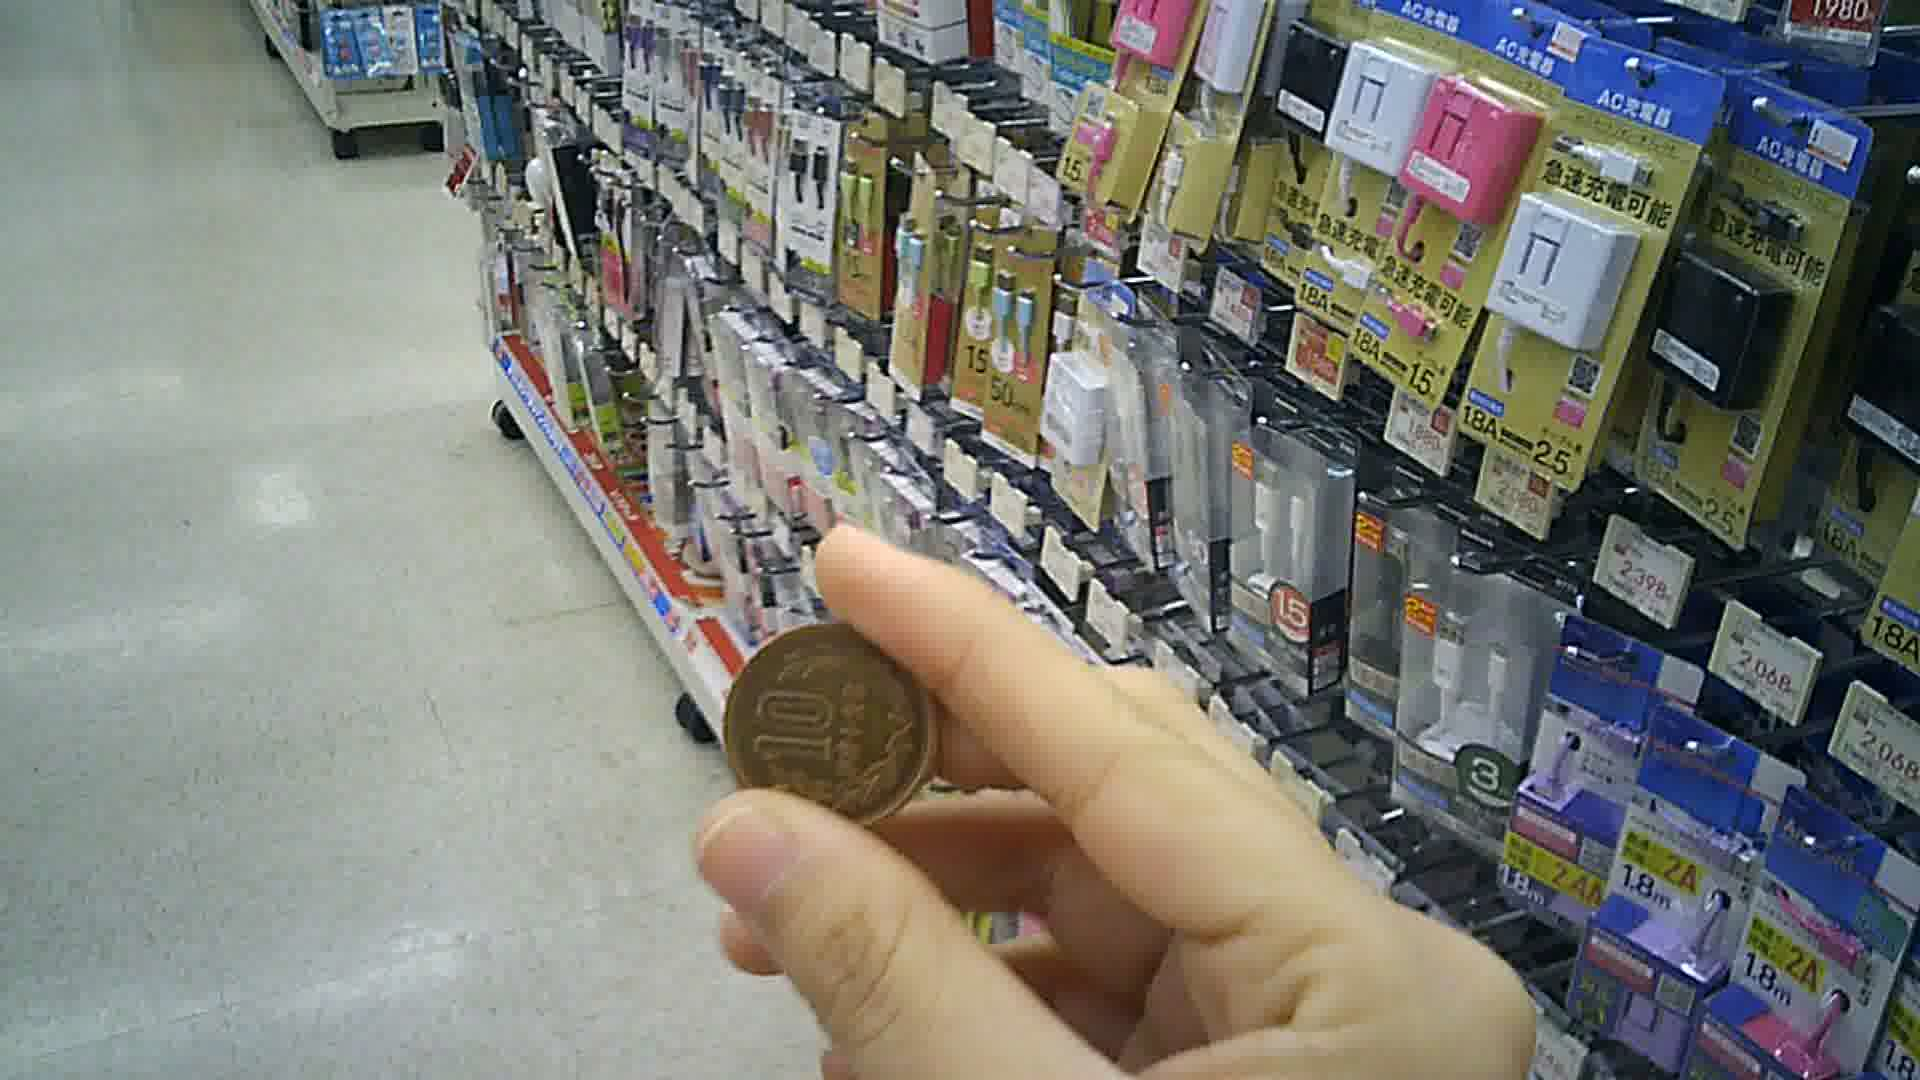10 Yen: (717, 622, 948, 825)
